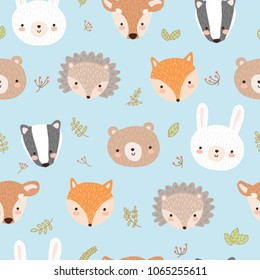animal: (191, 103, 247, 171), (60, 50, 121, 100), (153, 184, 215, 232), (68, 176, 118, 229), (149, 52, 198, 102), (107, 121, 160, 166), (10, 1, 67, 41), (99, 1, 150, 38), (25, 118, 63, 165), (189, 1, 234, 40), (1, 177, 40, 214), (235, 54, 260, 100)
